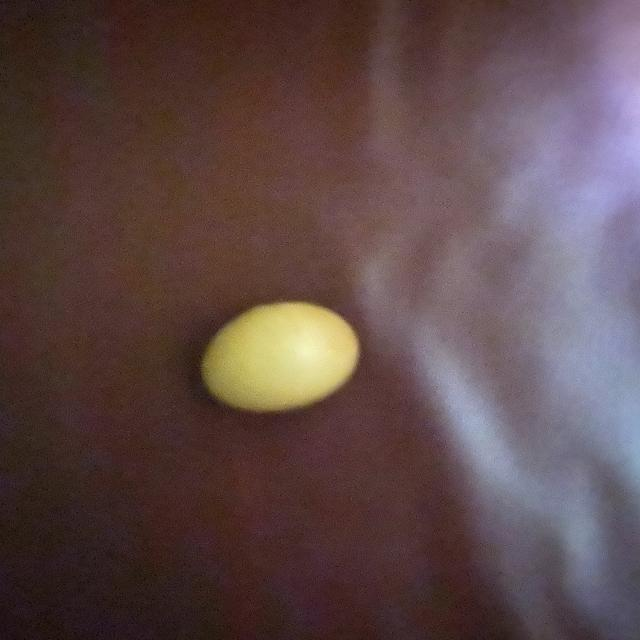egg: (194, 295, 367, 421)
